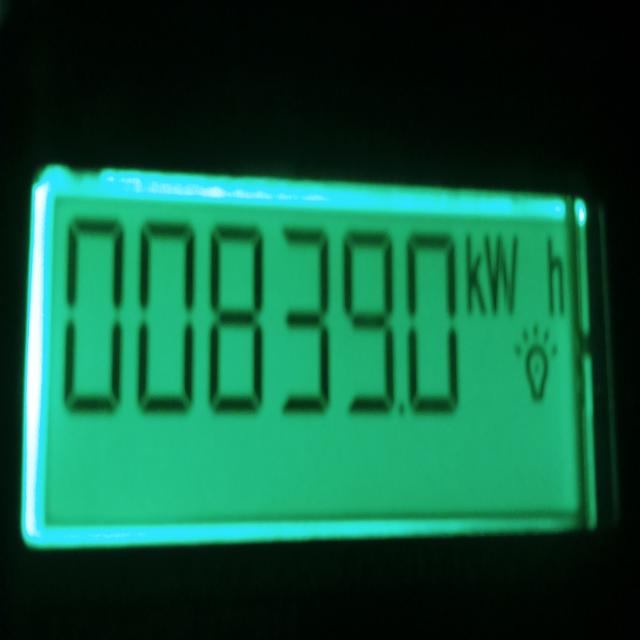.: (398, 400, 406, 420)
0: (65, 218, 123, 417), (138, 225, 194, 418), (406, 233, 458, 414)
3: (282, 228, 329, 414)
8: (208, 224, 262, 415)
9: (342, 227, 393, 415)
